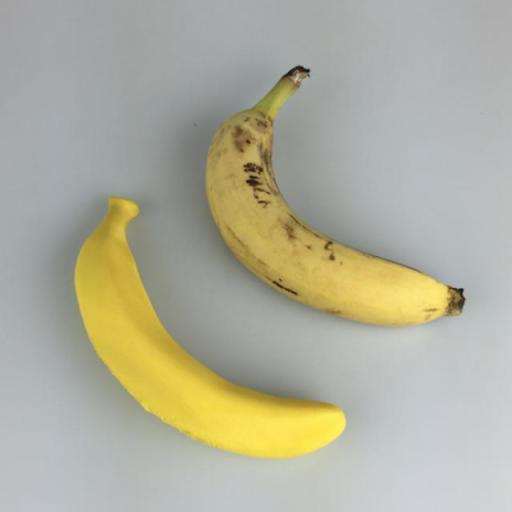fruit: (76, 198, 344, 457), (205, 67, 463, 323)
